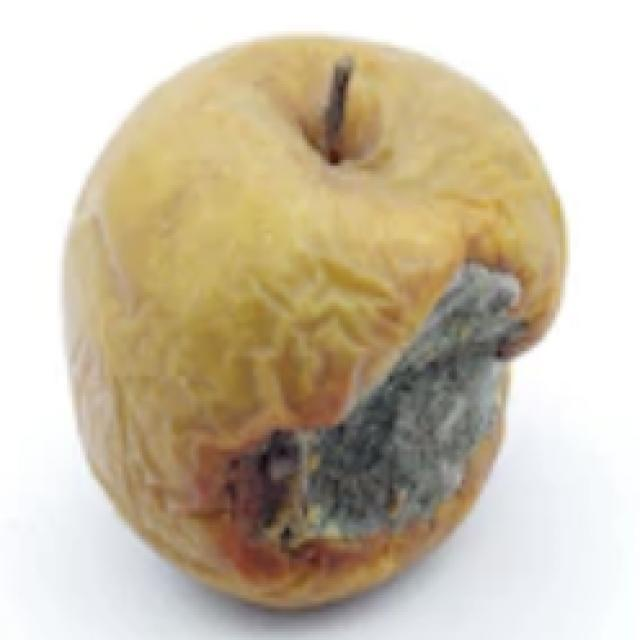Rotten: (88, 44, 585, 584)
